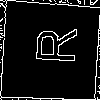R: (24, 26, 78, 65)
